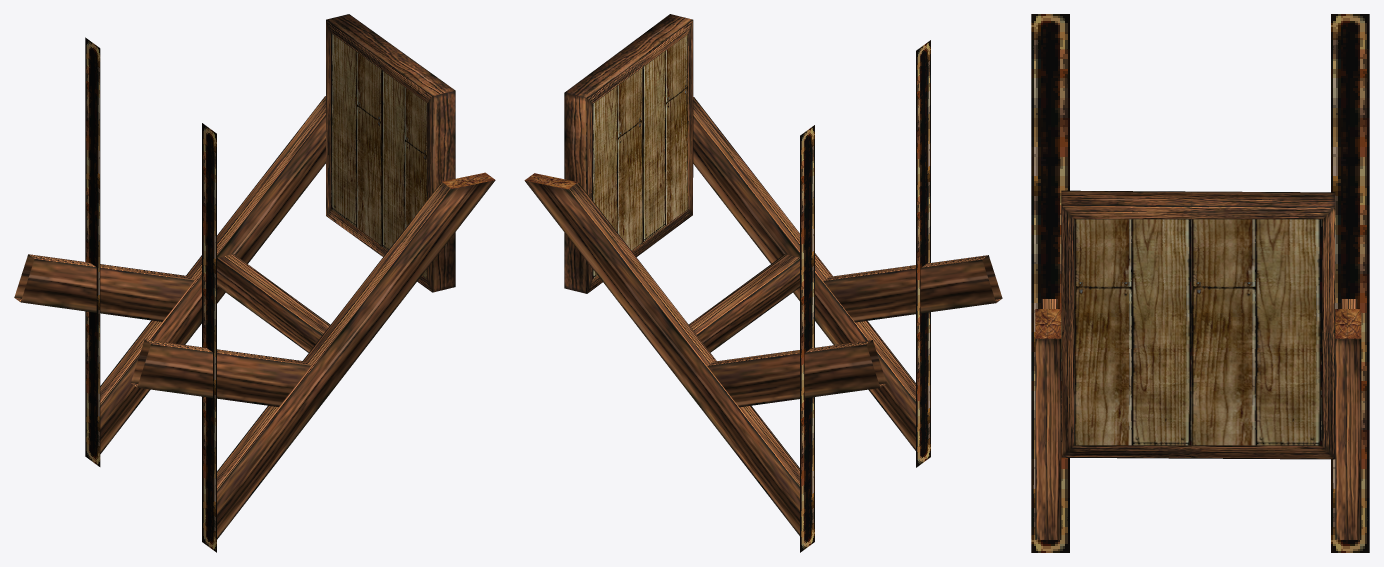
File: INST_WH_FLIPPLATFORM_01.fbx
3 renders of one model, left to right at view 1: azimuth 30°, elevation 25°; view 2: azimuth 150°, elevation 25°; view 3: azimuth 270°, elevation 25°, orthographic. The views are drawn at different scales.
Visible parts, largest first — view 1: INST_WH_FLIPPLATFORM_01; view 2: INST_WH_FLIPPLATFORM_01; view 3: INST_WH_FLIPPLATFORM_01.
Part boxes in pixels (x1=…): INST_WH_FLIPPLATFORM_01: x1=14, y1=14, x2=495, y2=552; INST_WH_FLIPPLATFORM_01: x1=524, y1=14, x2=1002, y2=552; INST_WH_FLIPPLATFORM_01: x1=1031, y1=14, x2=1369, y2=552.
Size of the model in its own units: 30150 by 33907 by 19308.
Materials: 5 (5 with a texture image).
